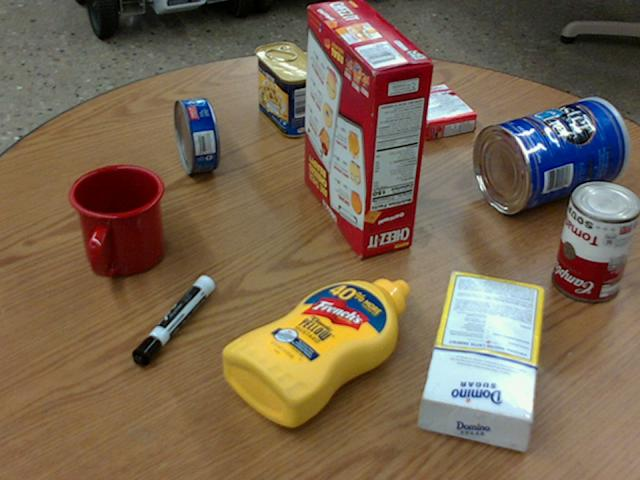cracker_box: (302, 0, 432, 256)
gelatin_box: (395, 84, 476, 140)
large_marker: (131, 274, 213, 364)
master_chef_can: (473, 97, 628, 213)
mug: (68, 165, 164, 276)
mustard_bottle: (221, 278, 408, 428)
potted_meat_can: (254, 42, 322, 136)
sugar_box: (418, 270, 545, 450)
tomato_soup_can: (552, 179, 639, 299)
tuna_fish_can: (175, 98, 218, 173)
